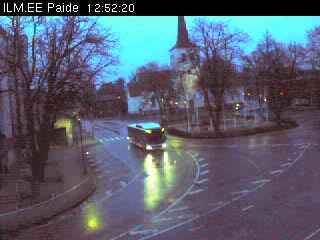bus: (127, 121, 168, 153)
